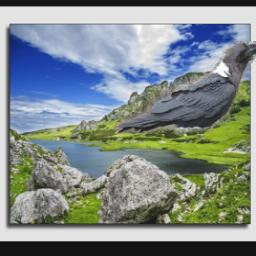Crow: (114, 42, 256, 135)
